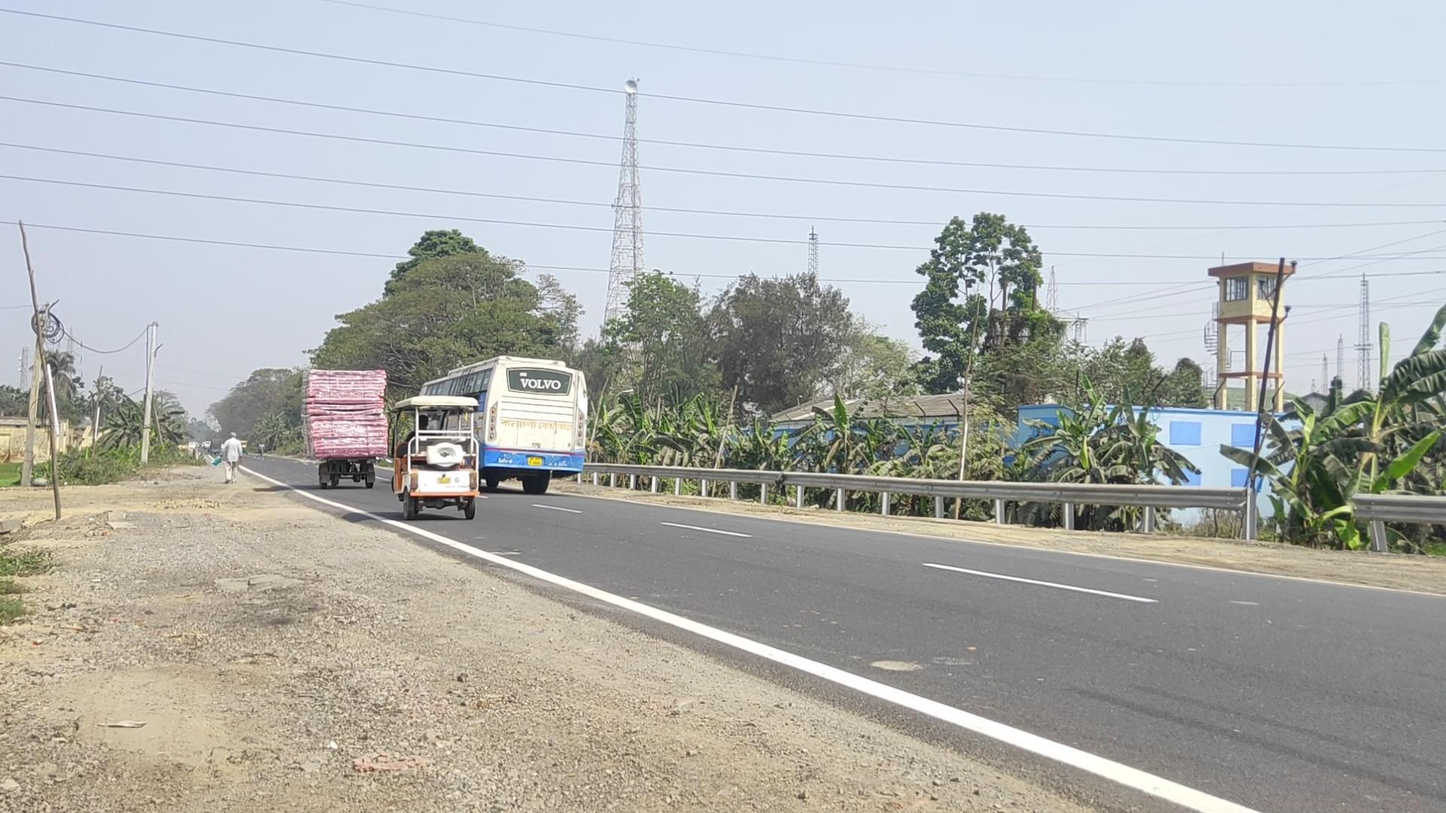Auto: (387, 396, 480, 520)
Bus: (416, 355, 587, 494)
